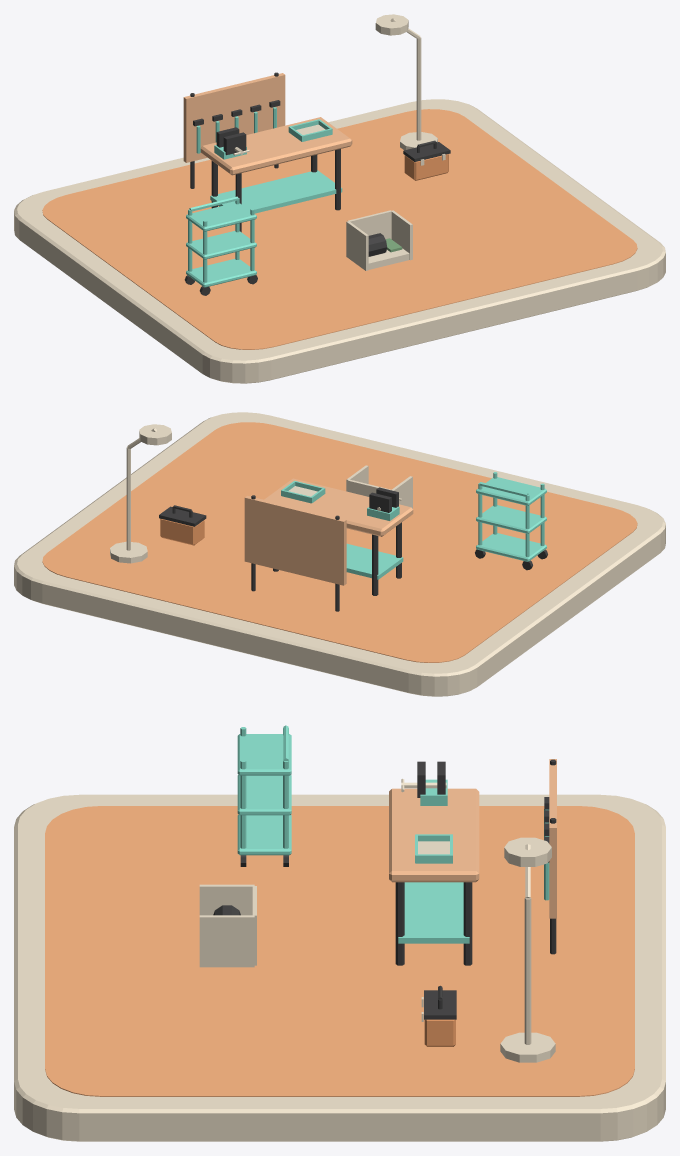
File: room.fbx
The picture shows the model from 3 angles, top to bottom: view 1: azimuth 30°, elevation 25°; view 2: azimuth 150°, elevation 25°; view 3: azimuth 270°, elevation 25°; orthographic projection. The views are drawn at different scales.
Parts seen in each view (by area): view 1: COM-02 Floor Surface, COM-01 Rounded Base Direct, Peg board, Worktop, Lower shelf, Tray.002, Tray.001, Tray, Side, Box, Back, Side.001 (+3 smaller); view 2: COM-02 Floor Surface, COM-01 Rounded Base Direct, Peg board, Worktop, Lower shelf, Tray, Tray.001, Tray.002, Box, Base.002, Lamp head, Lid (+1 smaller); view 3: COM-02 Floor Surface, COM-01 Rounded Base Direct, Worktop, Lower shelf, Side.001, Tray.002, Tray, Tray.001, Side, Base.002, Lamp head, Peg board (+5 smaller).
Boxes of the visible parts, x1=… form: COM-02 Floor Surface: x1=42, y1=109, x2=637, y2=349; COM-01 Rounded Base Direct: x1=14, y1=99, x2=665, y2=383; Peg board: x1=183, y1=73, x2=285, y2=162; Worktop: x1=200, y1=117, x2=352, y2=175; Lower shelf: x1=210, y1=170, x2=342, y2=213; Tray.002: x1=186, y1=203, x2=256, y2=231; Tray.001: x1=186, y1=231, x2=256, y2=259; Tray: x1=186, y1=259, x2=256, y2=287; Side: x1=346, y1=221, x2=368, y2=270; Box: x1=404, y1=154, x2=448, y2=180; Back: x1=348, y1=210, x2=391, y2=239; Side.001: x1=391, y1=210, x2=412, y2=260; COM-02 Floor Surface: x1=42, y1=422, x2=637, y2=662; COM-01 Rounded Base Direct: x1=14, y1=412, x2=665, y2=696; Peg board: x1=244, y1=495, x2=346, y2=585; Worktop: x1=264, y1=478, x2=413, y2=536; Lower shelf: x1=346, y1=543, x2=403, y2=579; Tray: x1=476, y1=533, x2=546, y2=561; Tray.001: x1=476, y1=505, x2=546, y2=533; Tray.002: x1=476, y1=477, x2=546, y2=505; Box: x1=160, y1=518, x2=204, y2=545; Base.002: x1=110, y1=541, x2=147, y2=563; Lamp head: x1=139, y1=424, x2=171, y2=445; Lid: x1=159, y1=506, x2=206, y2=526; COM-02 Floor Surface: x1=45, y1=806, x2=634, y2=1096; COM-01 Rounded Base Direct: x1=14, y1=794, x2=665, y2=1141; Worktop: x1=389, y1=788, x2=479, y2=882; Lower shelf: x1=398, y1=882, x2=469, y2=943; Side.001: x1=199, y1=915, x2=254, y2=967; Tray.002: x1=237, y1=734, x2=291, y2=775; Tray: x1=237, y1=814, x2=291, y2=855; Tray.001: x1=237, y1=775, x2=291, y2=815; Side: x1=199, y1=884, x2=254, y2=915; Base.002: x1=500, y1=1032, x2=555, y2=1062; Lamp head: x1=504, y1=837, x2=551, y2=866; Peg board: x1=549, y1=759, x2=556, y2=918.
Bounding box in the file's own units: 600 × 196 × 520.
